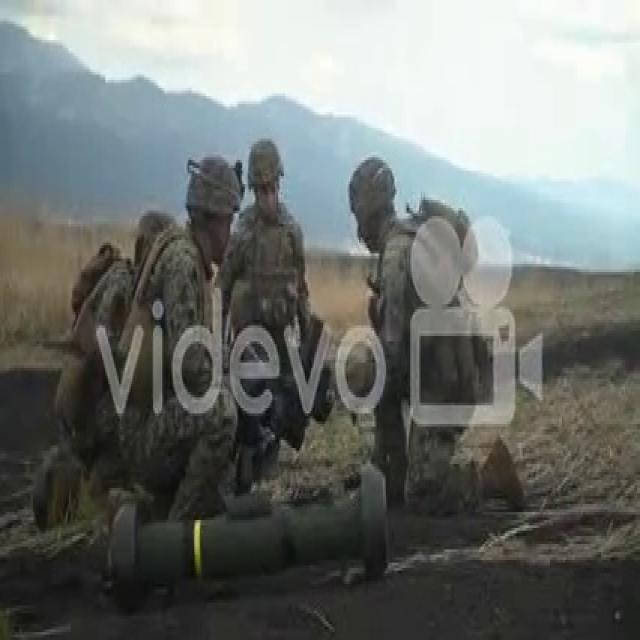bazooka: (103, 460, 401, 615)
